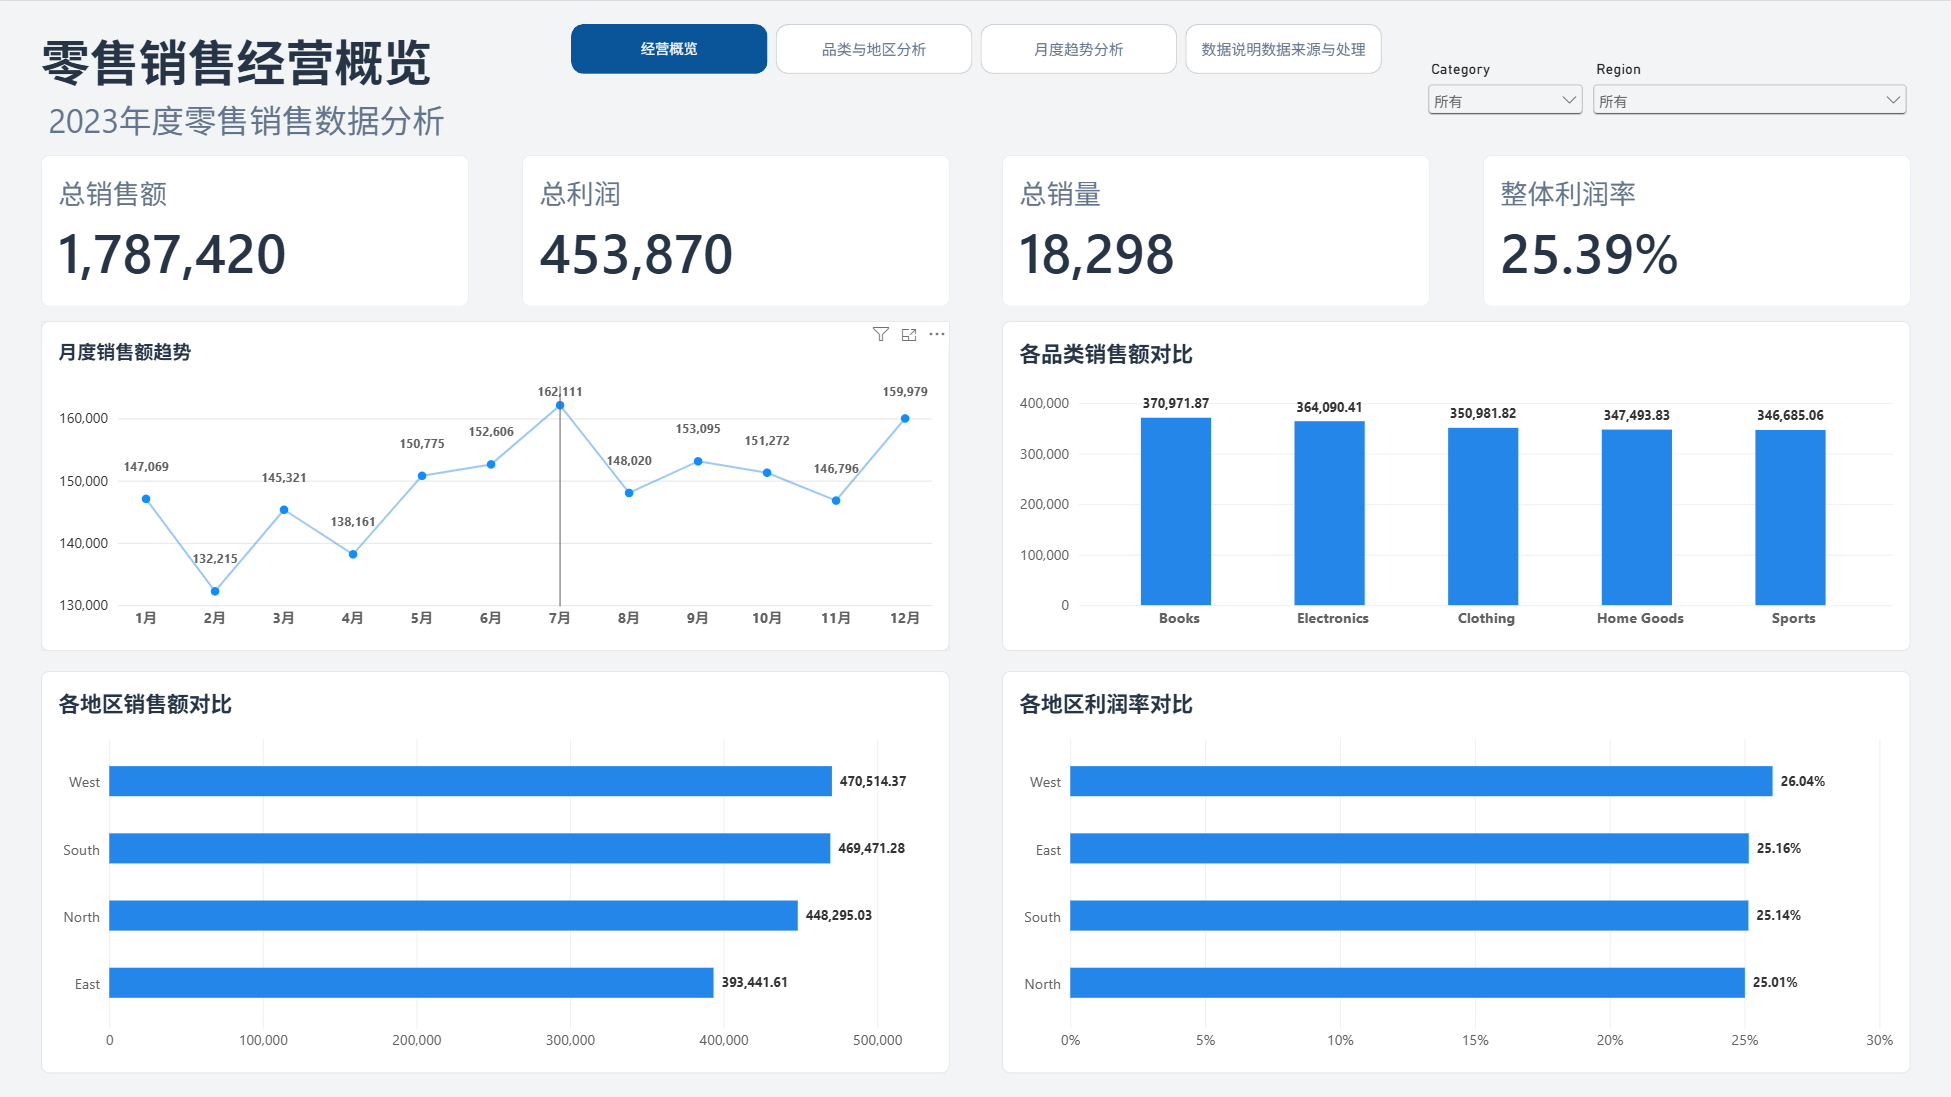

What the dashboard file says about the page in this screenshot:
{"tool":"powerbi","page":{"name":"经营概览","canvas":[1920,1080],"ordinal":0},"visuals":[{"type":"cardVisual","fields":{"Data":["sales_analysis retail_sales_clean.总利润"]},"box":[513,151.2,420,149.2],"z":0},{"type":"cardVisual","fields":{"Data":["sales_analysis retail_sales_clean.总销量"]},"box":[984.9,151.2,420,149.2],"z":1000},{"type":"cardVisual","fields":{"Data":["sales_analysis retail_sales_clean.整体利润率"]},"box":[1456.7,151.2,420,149],"z":2000},{"type":"cardVisual","fields":{"Data":["sales_analysis retail_sales_clean.总销售额"]},"box":[41.2,151.2,420,149.2],"z":3000},{"type":"lineChart","title":"月度销售额趋势","fields":{"Category":["Calendar.月份"],"Y":["sales_analysis retail_sales_clean.总销售额"]},"box":[41.2,314.1,892.3,323.9],"z":4000},{"type":"clusteredColumnChart","title":"各品类销售额对比","fields":{"Category":["sales_analysis retail_sales_clean.Category"],"Y":["sales_analysis retail_sales_clean.总销售额"]},"box":[984.5,314.1,892.3,323.9],"z":5000},{"type":"clusteredBarChart","title":"各地区销售额对比","fields":{"Category":["sales_analysis retail_sales_clean.Region"],"Y":["sales_analysis retail_sales_clean.总销售额"]},"box":[41.2,657.7,892.3,394.6],"z":6000},{"type":"clusteredBarChart","title":"各地区利润率对比","fields":{"Category":["sales_analysis retail_sales_clean.Region"],"Y":["sales_analysis retail_sales_clean.整体利润率"]},"box":[984.5,657.7,892.3,394.6],"z":7000},{"type":"textbox","box":[41.2,22.6,574.2,144.3],"z":8000},{"type":"slicer","fields":{"Values":["sales_analysis retail_sales_clean.Category"]},"box":[1397.5,58.4,162,78.5],"z":9000},{"type":"slicer","fields":{"Values":["sales_analysis retail_sales_clean.Region"]},"box":[1559.8,58.4,318,150],"z":10000},{"type":"pageNavigator","box":[561.5,22.6,797.1,49.1],"z":11000}]}

Visuals, with their boxes in screenshot pixels (x1, y1, x2, y2), scaled from the page's 1920x1080 canvas onto the 1951x1097 screenshot:
cardVisual - sales_analysis retail_sales_clean.总利润: region(521, 154, 948, 305)
cardVisual - sales_analysis retail_sales_clean.总销量: region(1001, 154, 1428, 305)
cardVisual - sales_analysis retail_sales_clean.整体利润率: region(1480, 154, 1907, 305)
cardVisual - sales_analysis retail_sales_clean.总销售额: region(42, 154, 469, 305)
"月度销售额趋势" lineChart: region(42, 319, 949, 648)
"各品类销售额对比" clusteredColumnChart: region(1000, 319, 1907, 648)
"各地区销售额对比" clusteredBarChart: region(42, 668, 949, 1069)
"各地区利润率对比" clusteredBarChart: region(1000, 668, 1907, 1069)
textbox: region(42, 23, 625, 170)
slicer - sales_analysis retail_sales_clean.Category: region(1420, 59, 1585, 139)
slicer - sales_analysis retail_sales_clean.Region: region(1585, 59, 1908, 212)
pageNavigator: region(571, 23, 1381, 73)
